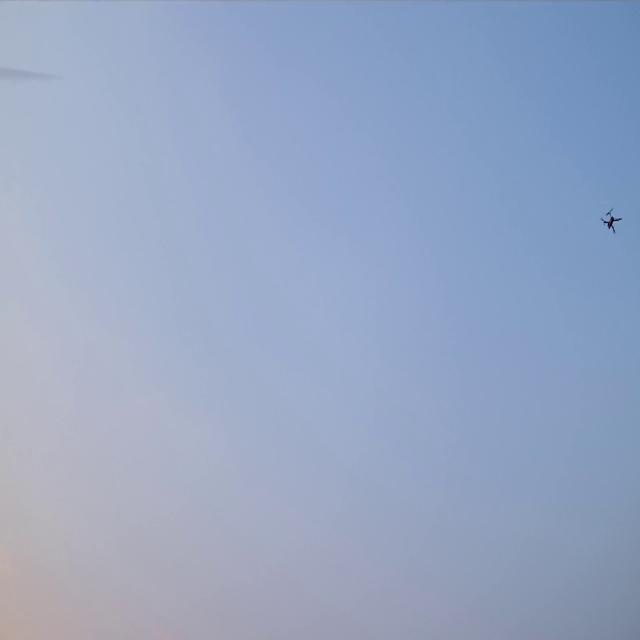UAV: (602, 212, 620, 232)
